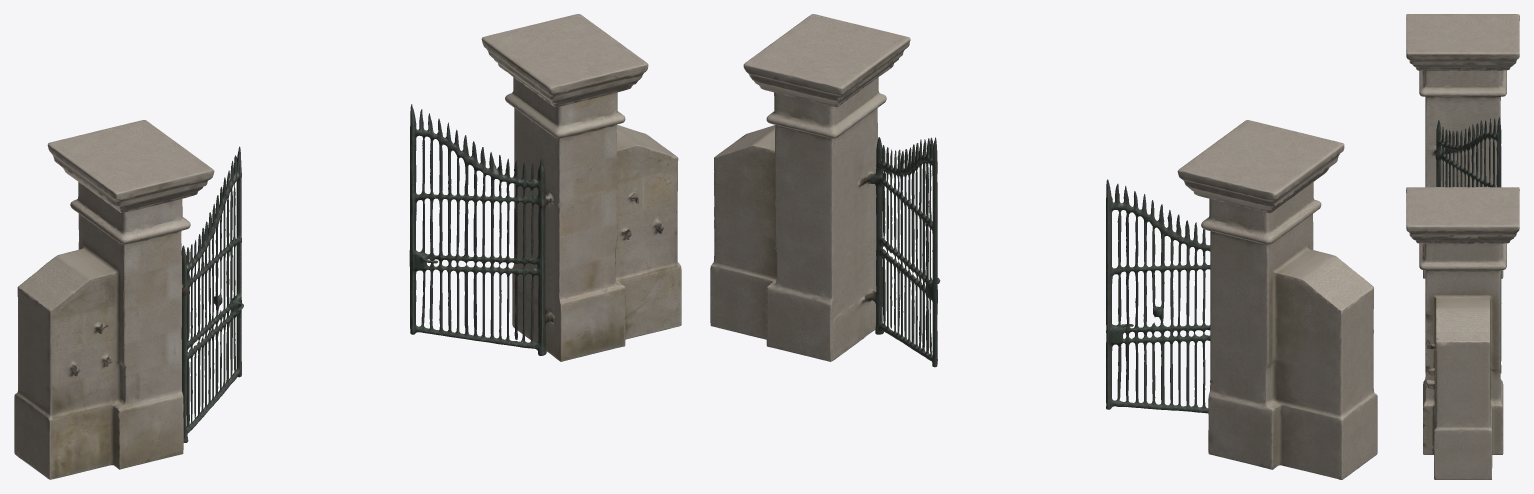
File: Stone portal_DKB.glb
3 views of the same model, side by side, from view 1: azimuth 30°, elevation 25°; view 2: azimuth 150°, elevation 25°; view 3: azimuth 270°, elevation 25° (orthographic). The views are drawn at different scales.
Bounding box in the file's own units: 1.9 × 0.8255 × 0.3623.
Materials: 1 (1 with a texture image).
